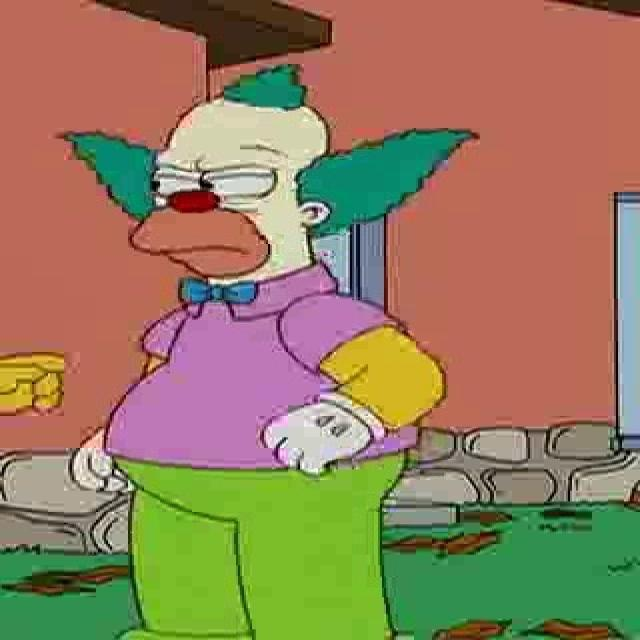Krusty the Clown: (57, 63, 479, 284)
